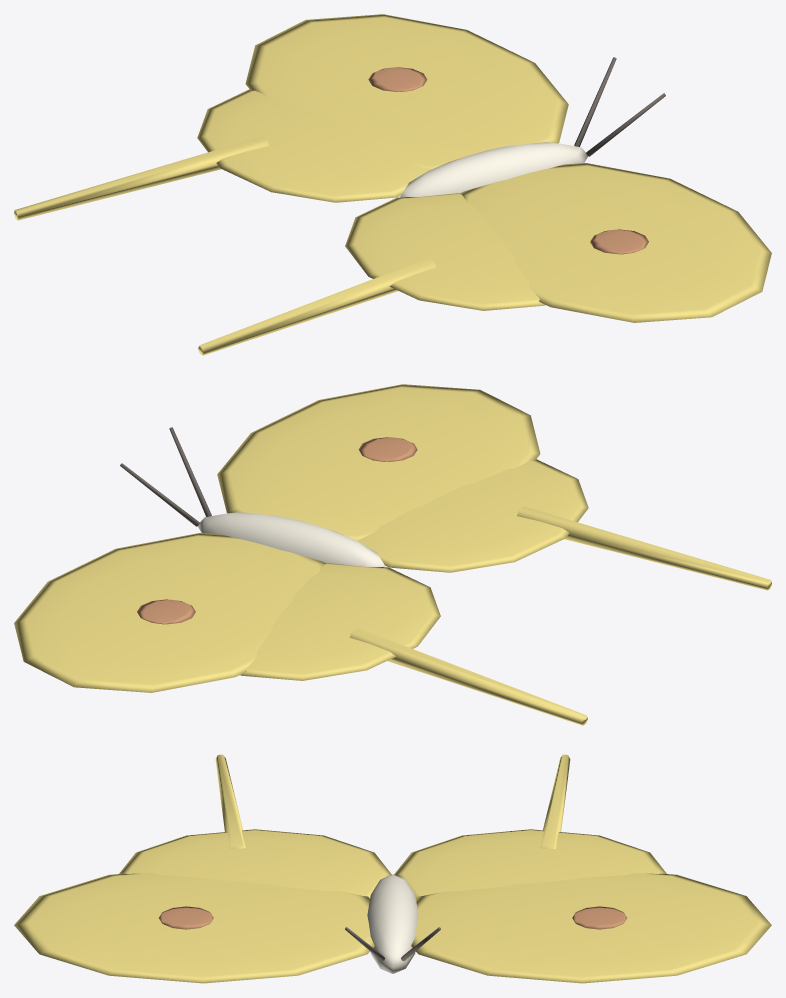
The model's file is golden-moon-moth.glb.
3 renders of one model, top to bottom at view 1: azimuth 30°, elevation 25°; view 2: azimuth 150°, elevation 25°; view 3: azimuth 270°, elevation 25°, orthographic. The views are drawn at different scales.
Visible parts, largest first — view 1: e.001, e.004, e; view 2: e.004, e.001, e; view 3: e.004, e.001, e.
Part boxes in pixels (box(x1,y1,x2,y2)): e.001: box(198, 163, 771, 355); e.004: box(14, 14, 568, 220); e: box(400, 57, 665, 197); e.004: box(14, 533, 587, 725); e.001: box(217, 384, 771, 590); e: box(120, 427, 385, 567); e.004: box(394, 754, 771, 983); e.001: box(14, 754, 391, 983); e: box(345, 874, 440, 973).
Size of the model in its own units: 0.666 by 0.1135 by 0.88.
